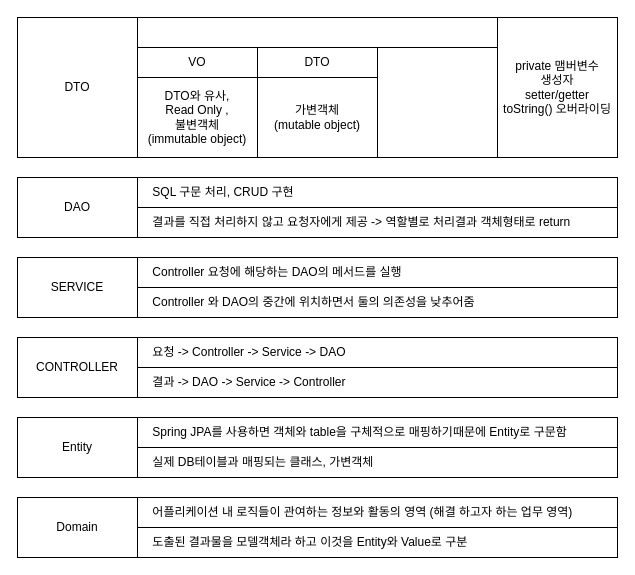
Image size: 635x575. Some labels were removed from this diagram. The shapes that lost their labels are listed below. From the top down, each one's box as (x1, y1, x2, y2) in pixels, then its label:
(136, 16, 498, 48): 계층간의 데이터를 교환하기 위한 객체
(376, 46, 498, 158): Spring MyBatis - 주로 VO로 표현 - 떄떄로 DTO Spring JPA - Entity라고 표현
